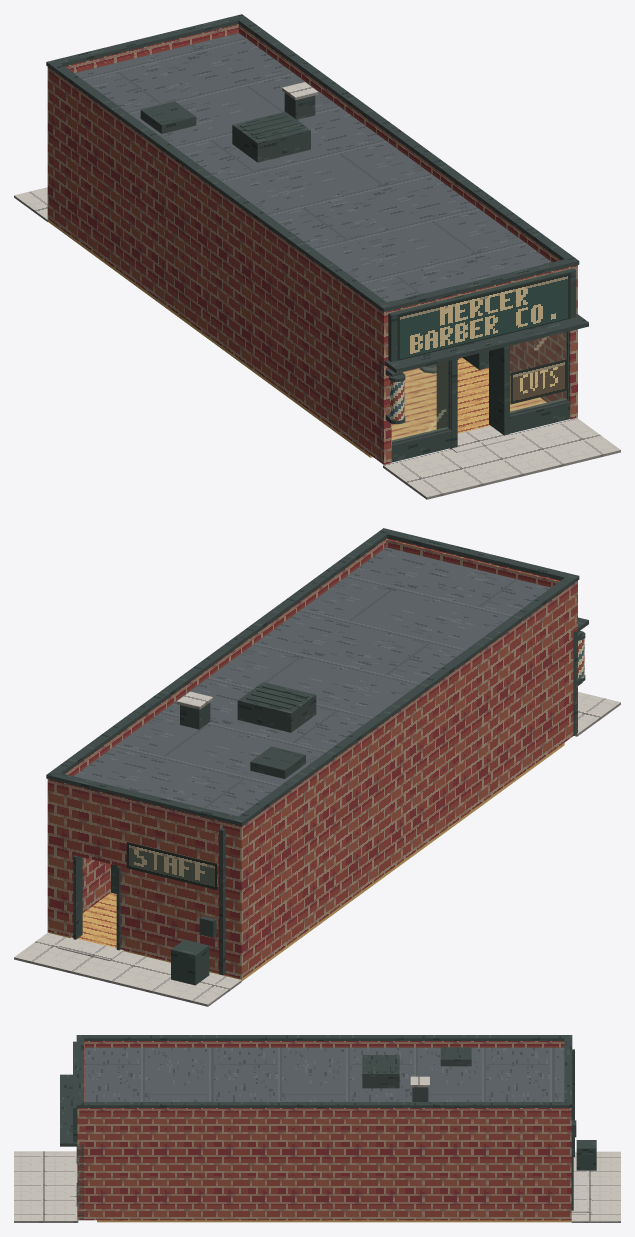
The model's file is barber-2010-mid.glb.
3 renders of one model, top to bottom at view 1: azimuth 30°, elevation 25°; view 2: azimuth 150°, elevation 25°; view 3: azimuth 270°, elevation 25°, orthographic. The views are drawn at different scales.
Visible parts, largest first — view 1: shell, lot, sign_name, fixed_interior, sign_shop_window; view 2: shell, lot, fixed_interior, sign_staff; view 3: shell, lot, fixed_interior.
Boxes of the visible parts, x1,y1,x2,y2 form: shell: [46, 14, 588, 464]; lot: [14, 187, 620, 499]; sign_name: [397, 273, 570, 360]; fixed_interior: [47, 219, 546, 457]; sign_shop_window: [510, 359, 567, 404]; shell: [46, 528, 588, 978]; lot: [14, 692, 620, 1006]; fixed_interior: [47, 743, 564, 981]; sign_staff: [126, 842, 216, 889]; shell: [60, 1035, 591, 1220]; lot: [14, 1140, 620, 1222]; fixed_interior: [97, 1220, 571, 1222].
Size of what is drawn, in the model's own units: 6.05 by 5.06 by 22.1.
11 materials, 11 textured.
